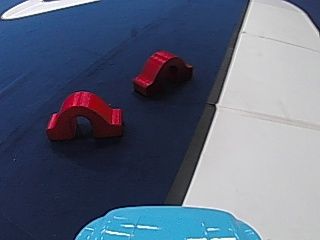bridge: (41, 87, 127, 142), (132, 46, 192, 99)
